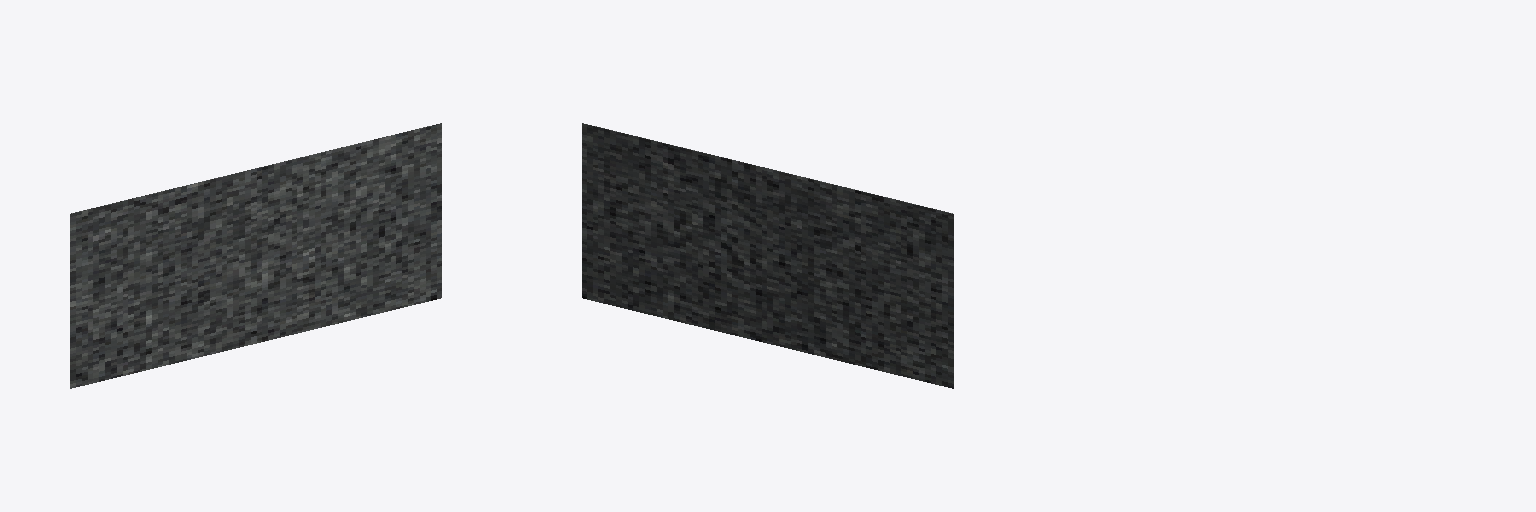
3 renders of one model, left to right at view 1: azimuth 30°, elevation 25°; view 2: azimuth 150°, elevation 25°; view 3: azimuth 270°, elevation 25°, orthographic.
Visible parts, largest first — view 1: pCube10; view 2: pCube10; view 3: none.
Part boxes in pixels (x1,y1,x2,y2): pCube10: (70,123,441,388); pCube10: (582,123,953,388).
Bounding box in the file's own units: 8.31 × 3.73 × 0.0164.
Materials: 1 (1 with a texture image).